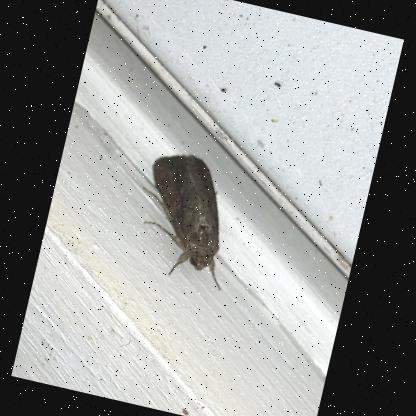Fall Armyworm Moth: (122, 143, 252, 294)
